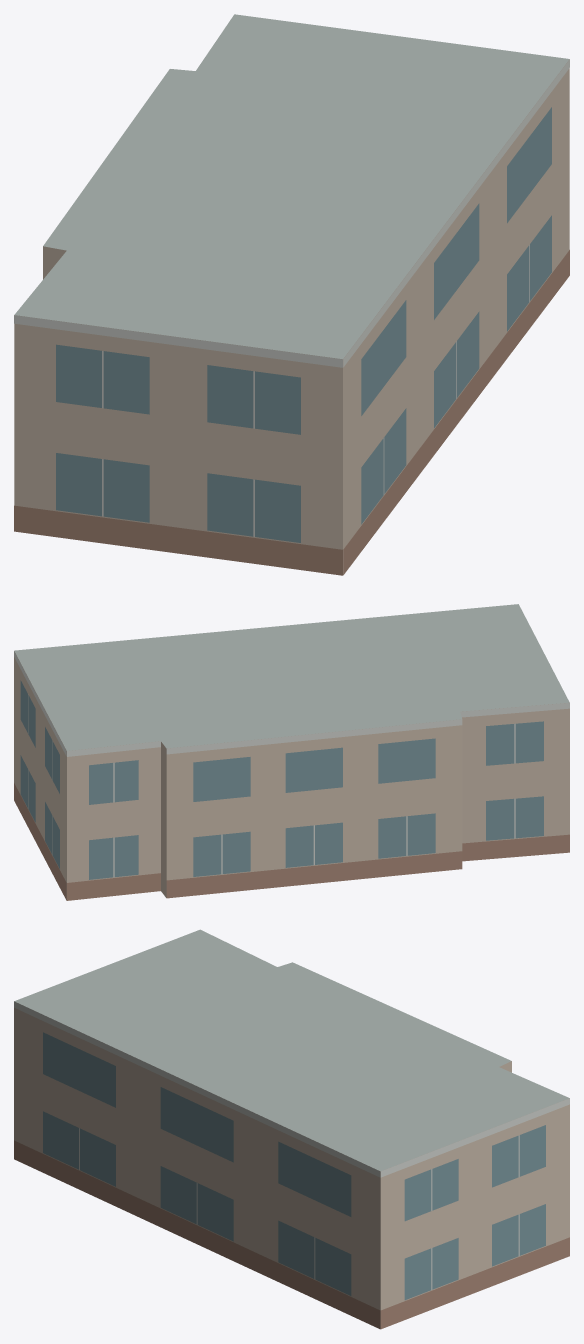
Rendered from survey-upis-32665735.glb.
3 views of the same model, one above another, from view 1: azimuth 30°, elevation 25°; view 2: azimuth 150°, elevation 25°; view 3: azimuth 270°, elevation 25° (orthographic). The views are drawn at different scales.
Parts seen in each view (by area): view 1: survey-upis-32665735.tmp; view 2: survey-upis-32665735.tmp; view 3: survey-upis-32665735.tmp.
Part boxes in pixels (x1,y1,x2,y2): survey-upis-32665735.tmp: [14, 14, 569, 575]; survey-upis-32665735.tmp: [14, 604, 569, 900]; survey-upis-32665735.tmp: [14, 929, 569, 1329].
Size of the model in its own units: 20.04 by 6.1 by 19.45.
